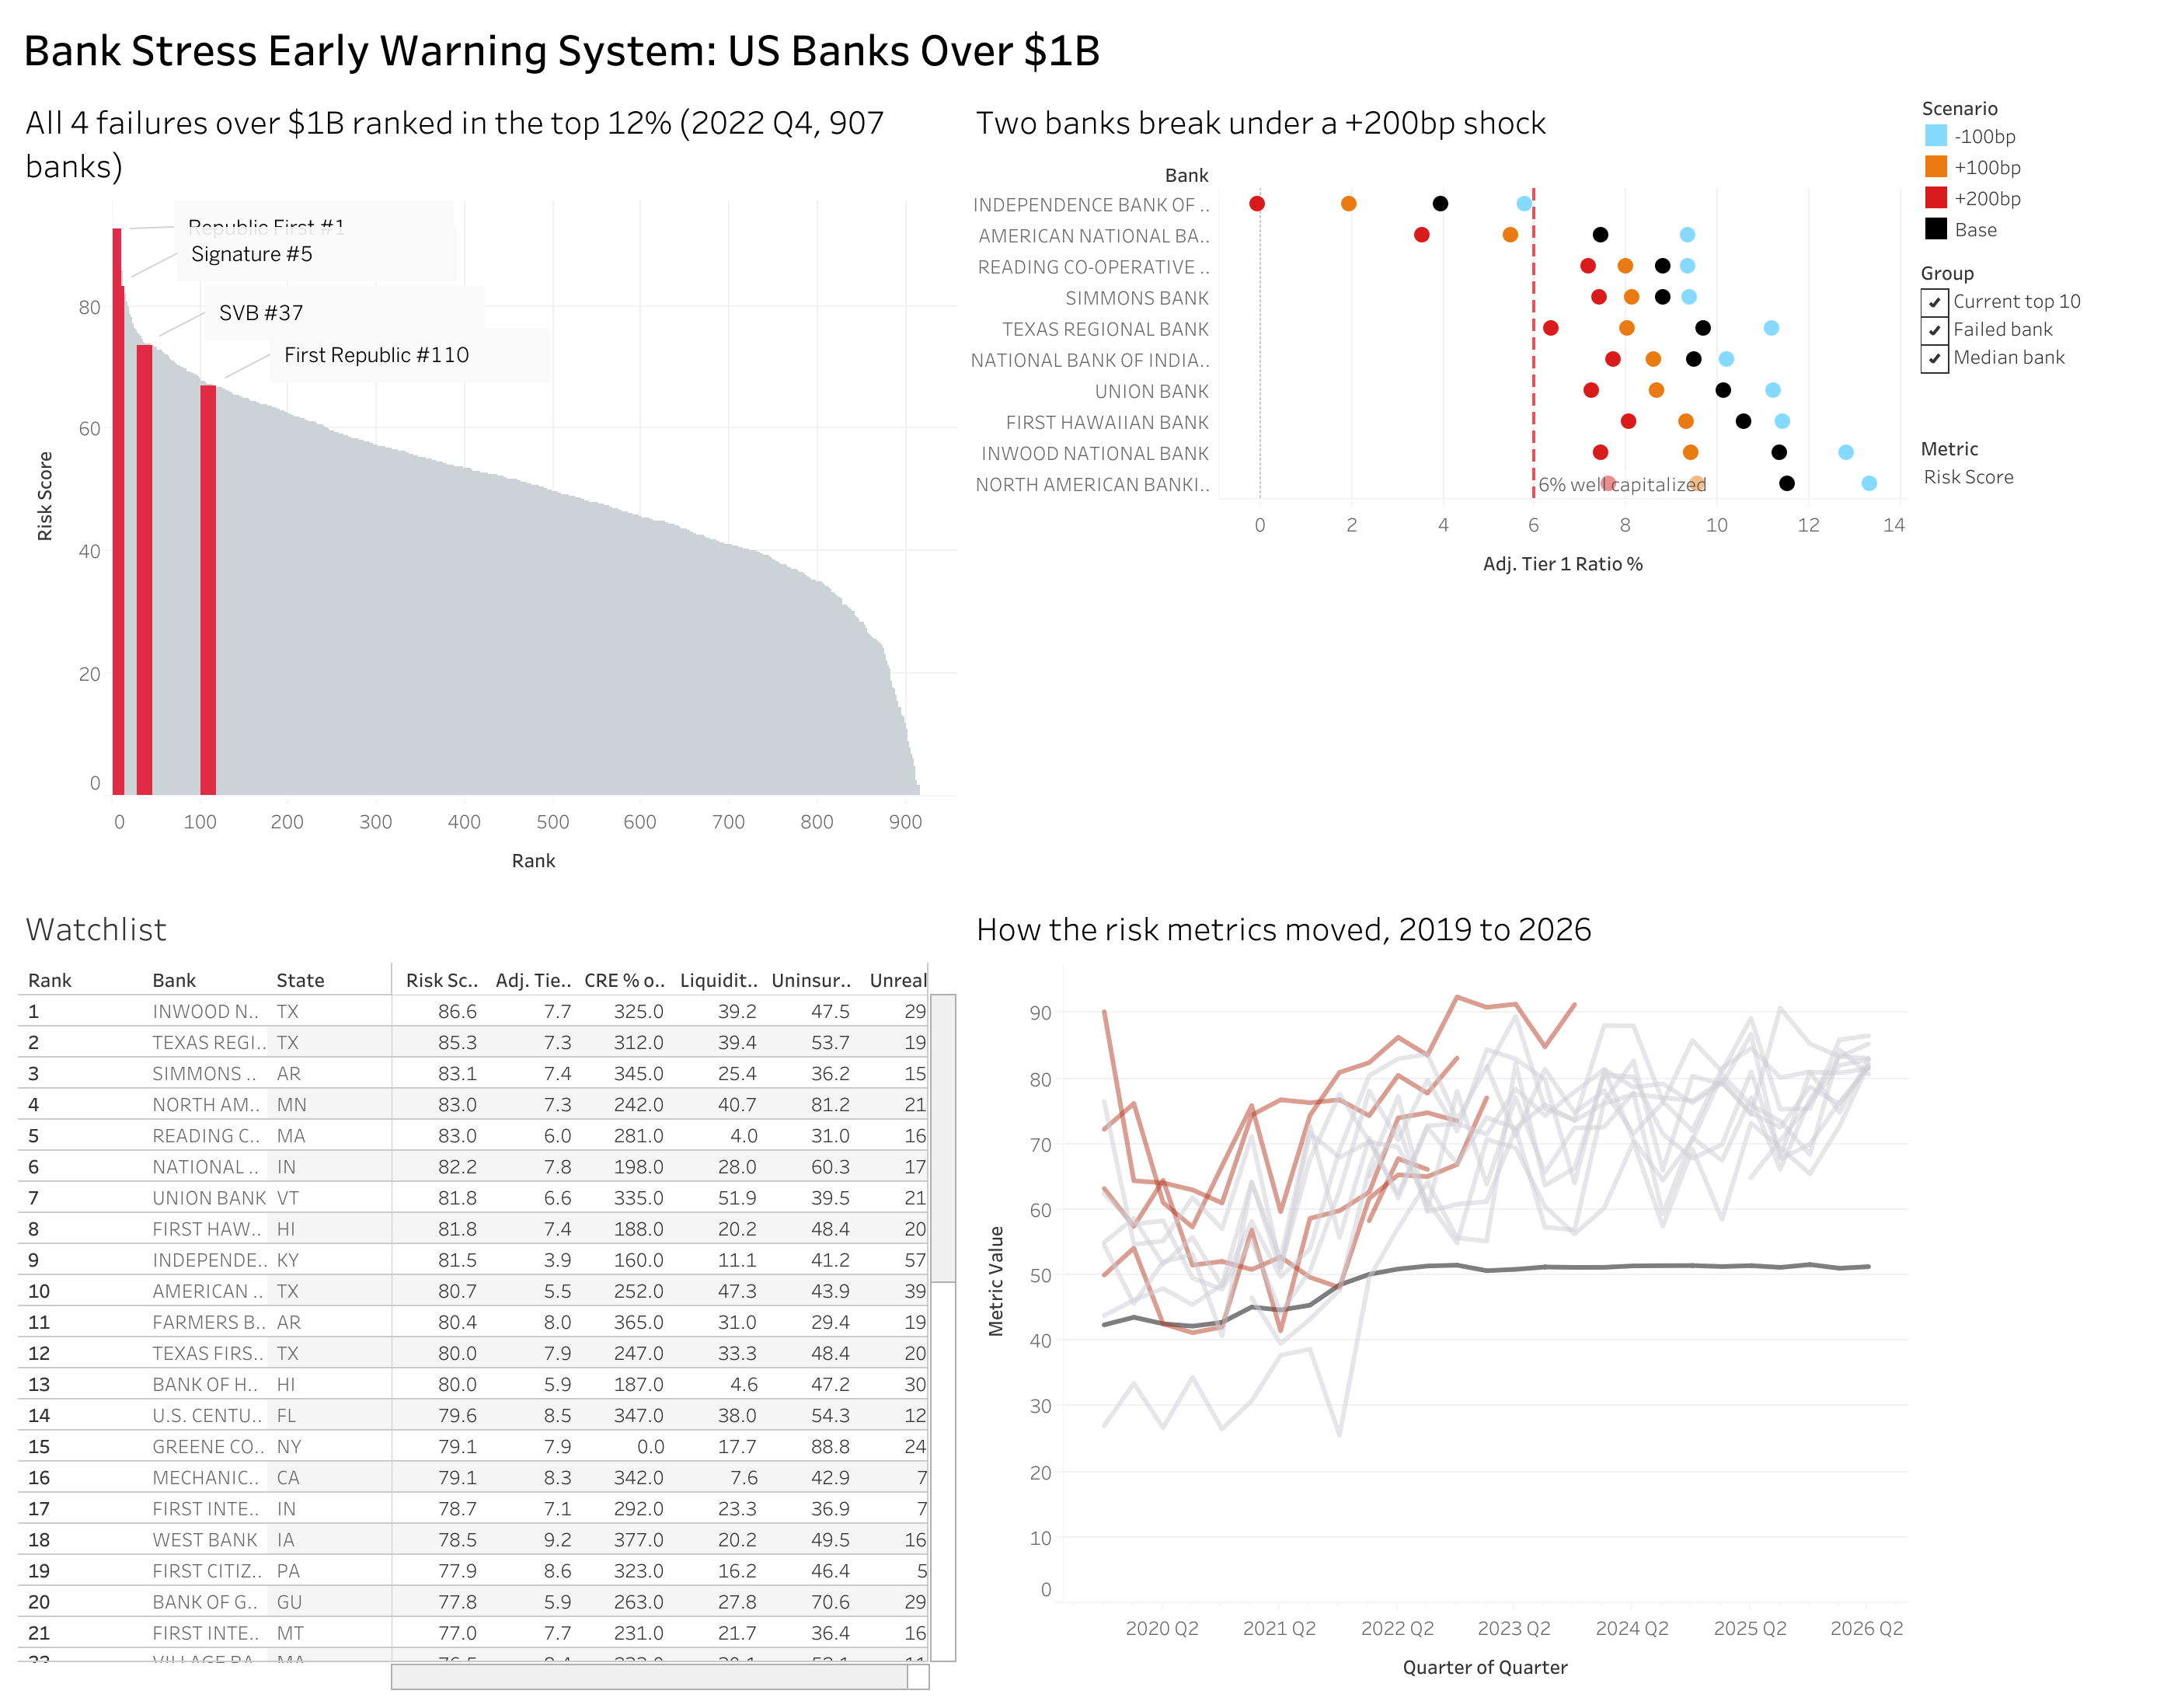

What the dashboard file says about the page in this screenshot:
{"tool":"tableau","page":{"name":"Dashboard ","canvas":[1400,1100],"ordinal":0},"visuals":[{"type":"title","box":[8,8,1384,45]},{"type":"worksheet","title":"Backtest","mark":"Bar","rows":["Risk Score"],"cols":["Rank"],"box":[8,53,612,519.5]},{"type":"worksheet","title":"Rate Shock","mark":"Circle","rows":["Bank"],"cols":["Adj. Tier 1 Ratio %"],"box":[620,53,612,519.5]},{"type":"legend","title":"Rate Shock","param":"[federated.12kmnos0x5z53b1h54haf1sz9kgr].[none:Scenario:nk]","box":[1232,53,160,106]},{"type":"filter","title":"Trends","param":"[federated.1po0bst037xmz614esc711vyjhiu].[none:Group:nk]","box":[1232,159,160,108]},{"type":"filter","title":"Trends","param":"[federated.1po0bst037xmz614esc711vyjhiu].[none:Metric:nk]","box":[1232,267,160,52]},{"type":"worksheet","title":"Watchlist","mark":"Automatic","rows":["Rank","Bank","State"],"box":[8,572.5,612,519.5]},{"type":"worksheet","title":"Trends","mark":"Automatic","rows":["Value"],"cols":["Quarter"],"box":[620,572.5,612,519.5]}]}

Visuals, with their boxes in screenshot pixels (x1, y1, x2, y2), scaled from the page's 1400x1100 canvas onto the 2174x1708 screenshot:
title: left=12, top=12, right=2162, bottom=82
"Backtest" worksheet (Bar marks): left=12, top=82, right=963, bottom=889
"Rate Shock" worksheet (Circle marks): left=963, top=82, right=1913, bottom=889
"Rate Shock" legend: left=1913, top=82, right=2162, bottom=247
"Trends" filter: left=1913, top=247, right=2162, bottom=415
"Trends" filter: left=1913, top=415, right=2162, bottom=495
"Watchlist" worksheet: left=12, top=889, right=963, bottom=1696
"Trends" worksheet: left=963, top=889, right=1913, bottom=1696
